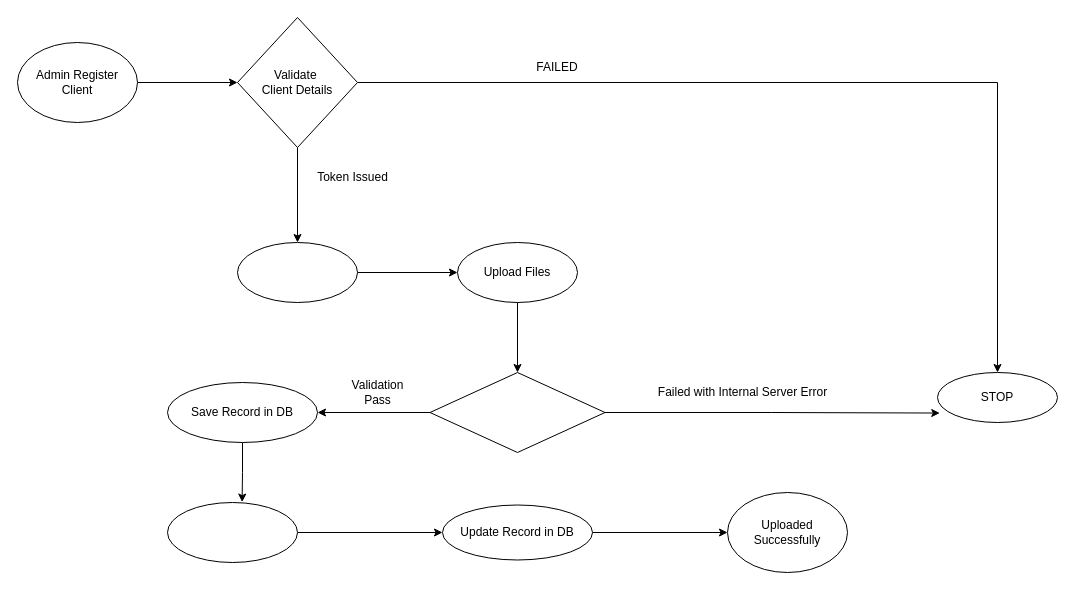
The diagram is 1075 pixels wide and 590 high, and some of its shapes have lost their labels. The centre of each missing label's shape, as x and y in pixels:
Client Gets Token: the point at 297,272
Token Validation & Some Other Validation Check: the point at 517,412
Upload file in directory: the point at 232,532
